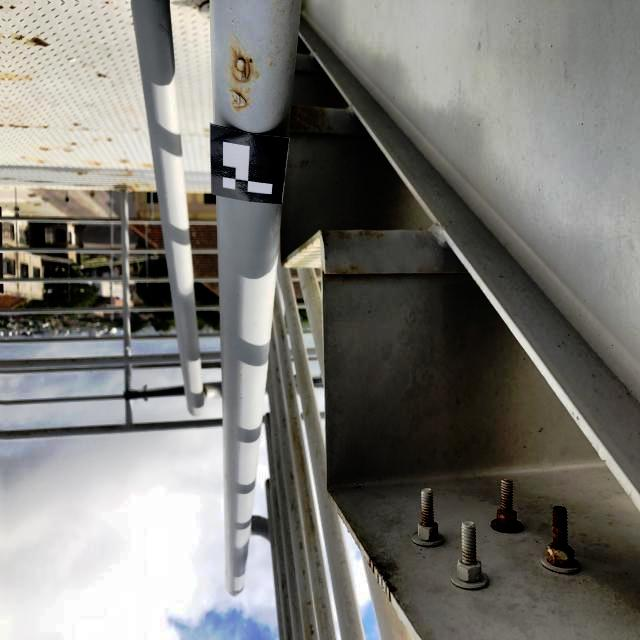Corrosion: (491, 479, 523, 533), (547, 506, 574, 567), (290, 105, 331, 131), (232, 49, 257, 84), (421, 495, 438, 541), (231, 88, 247, 111), (325, 272, 375, 278), (32, 37, 50, 48), (462, 549, 476, 563), (8, 124, 28, 129), (124, 185, 136, 191), (281, 257, 288, 266), (97, 74, 107, 80), (15, 35, 25, 41), (38, 147, 49, 151), (146, 163, 152, 168), (63, 149, 71, 152), (9, 5, 15, 9), (74, 124, 81, 127), (94, 162, 99, 166), (39, 160, 44, 164), (72, 142, 76, 146), (43, 125, 47, 129), (122, 160, 127, 163), (466, 564, 472, 566), (108, 138, 111, 142), (79, 172, 83, 175), (0, 124, 3, 127), (0, 6, 3, 9)
